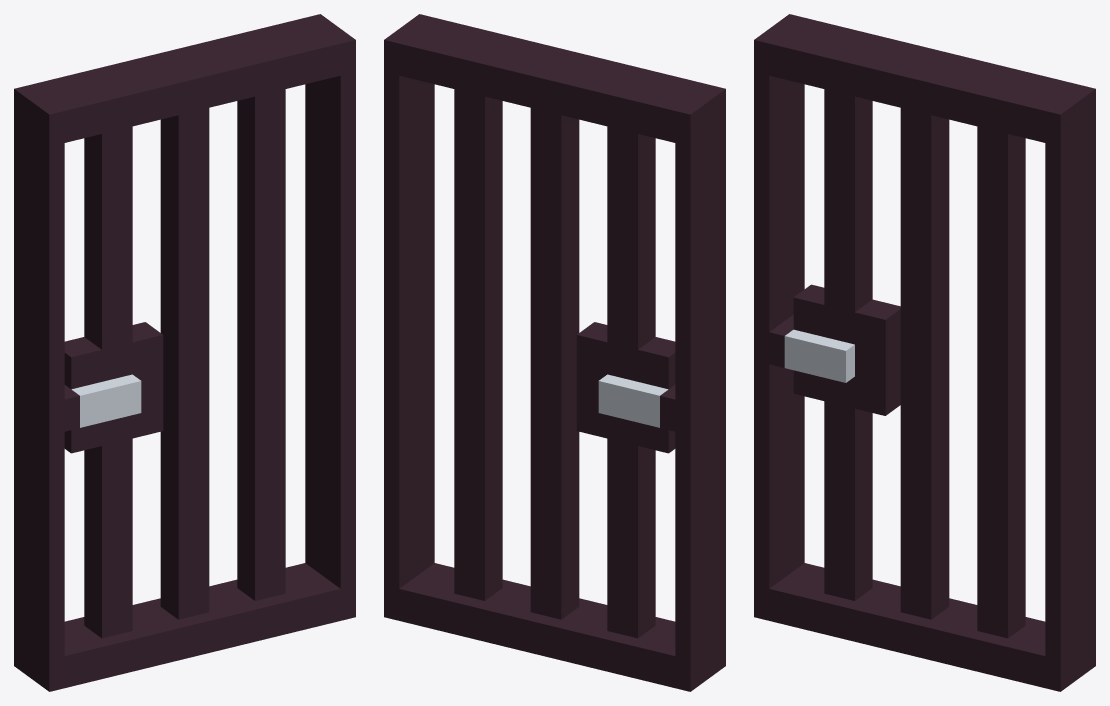
Rendered from Cell Door (10x14x4).fbx.
3 views of the same model, side by side, from view 1: azimuth 30°, elevation 25°; view 2: azimuth 150°, elevation 25°; view 3: azimuth 330°, elevation 25° (orthographic).
Parts seen in each view (by area): view 1: generated; view 2: generated; view 3: generated.
Part boxes in pixels (x1,y1,x2,y2): generated: [14, 14, 355, 691]; generated: [384, 14, 725, 691]; generated: [754, 14, 1095, 691].
Size of the model in its own units: 400 by 720 by 80.
